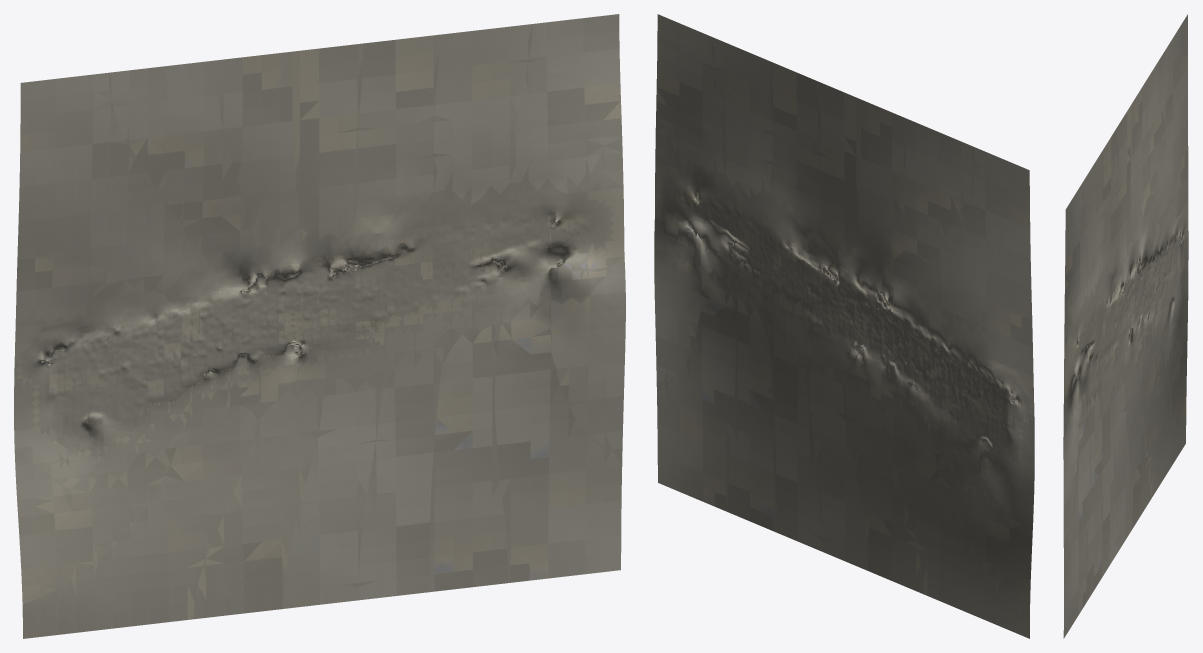
Rendered from floor_demo_flatten.dae.
3 views of the same model, side by side, from view 1: azimuth 30°, elevation 25°; view 2: azimuth 150°, elevation 25°; view 3: azimuth 270°, elevation 25° (orthographic). The views are drawn at different scales.
Parts seen in each view (by area): view 1: refined2_20250523_020730_158913_20250523_2105_flattened_mesh; view 2: refined2_20250523_020730_158913_20250523_2105_flattened_mesh; view 3: refined2_20250523_020730_158913_20250523_2105_flattened_mesh.
Boxes of the visible parts, x1=… form: refined2_20250523_020730_158913_20250523_2105_flattened_mesh: x1=14, y1=14, x2=625, y2=638; refined2_20250523_020730_158913_20250523_2105_flattened_mesh: x1=654, y1=14, x2=1034, y2=638; refined2_20250523_020730_158913_20250523_2105_flattened_mesh: x1=1063, y1=14, x2=1188, y2=638.
Size of the model in its own units: 20.32 by 5.36 by 20.31.
Materials: 1 (1 with a texture image).
